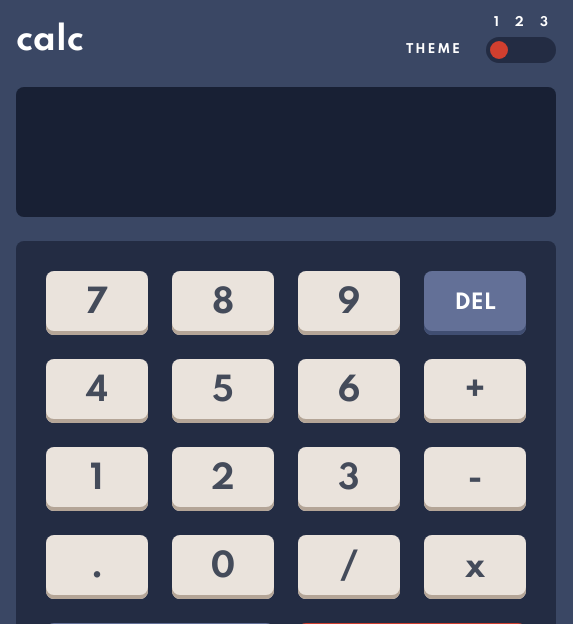
App › shows the equation after pressing a symbol
The image size is (573, 624).
What coordinates should you click on to do the following:
click the button "2"
I would click on:
 (223, 479)
Its box is x1=172 y1=447 x2=274 y2=511.
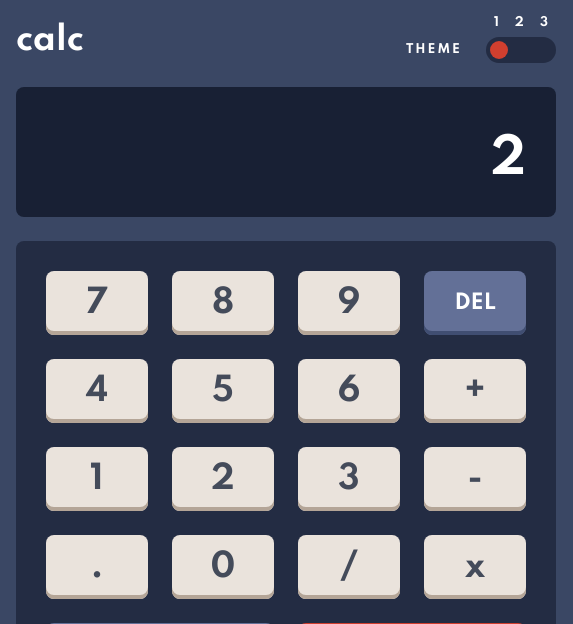
What coordinates should you click on to do the following:
click the button "2"
I would click on:
 (223, 479)
Its box is x1=172 y1=447 x2=274 y2=511.
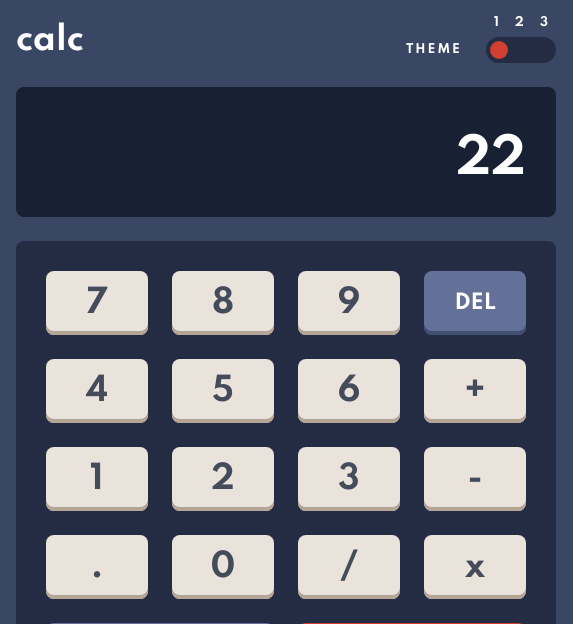
What coordinates should you click on to do the following:
click the button "+"
I would click on:
 (475, 391)
Its box is x1=424 y1=359 x2=526 y2=423.
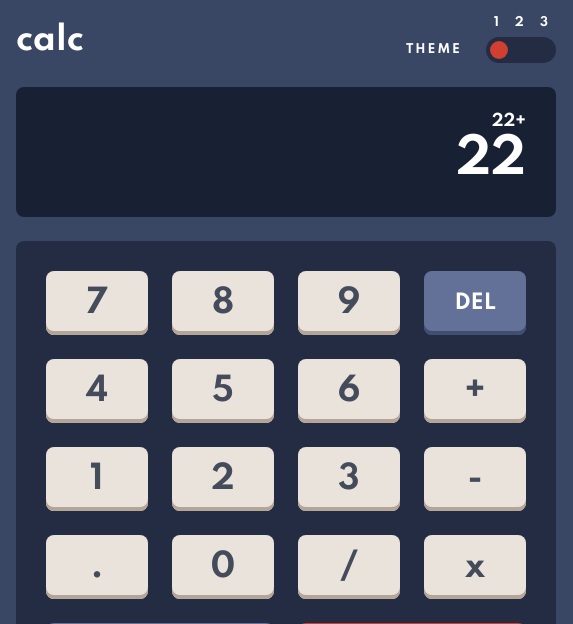
Expected: the text with test id "equation" reads "22+", x1=492 y1=112 x2=526 y2=130
